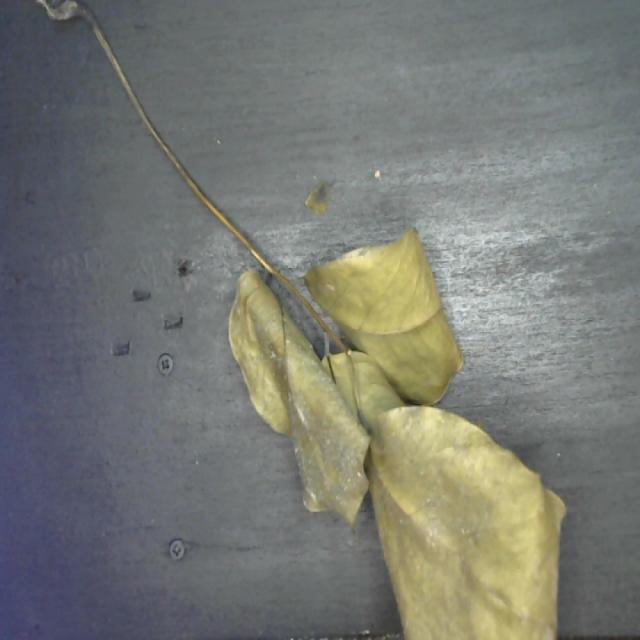biodegradable: (221, 222, 567, 640)
